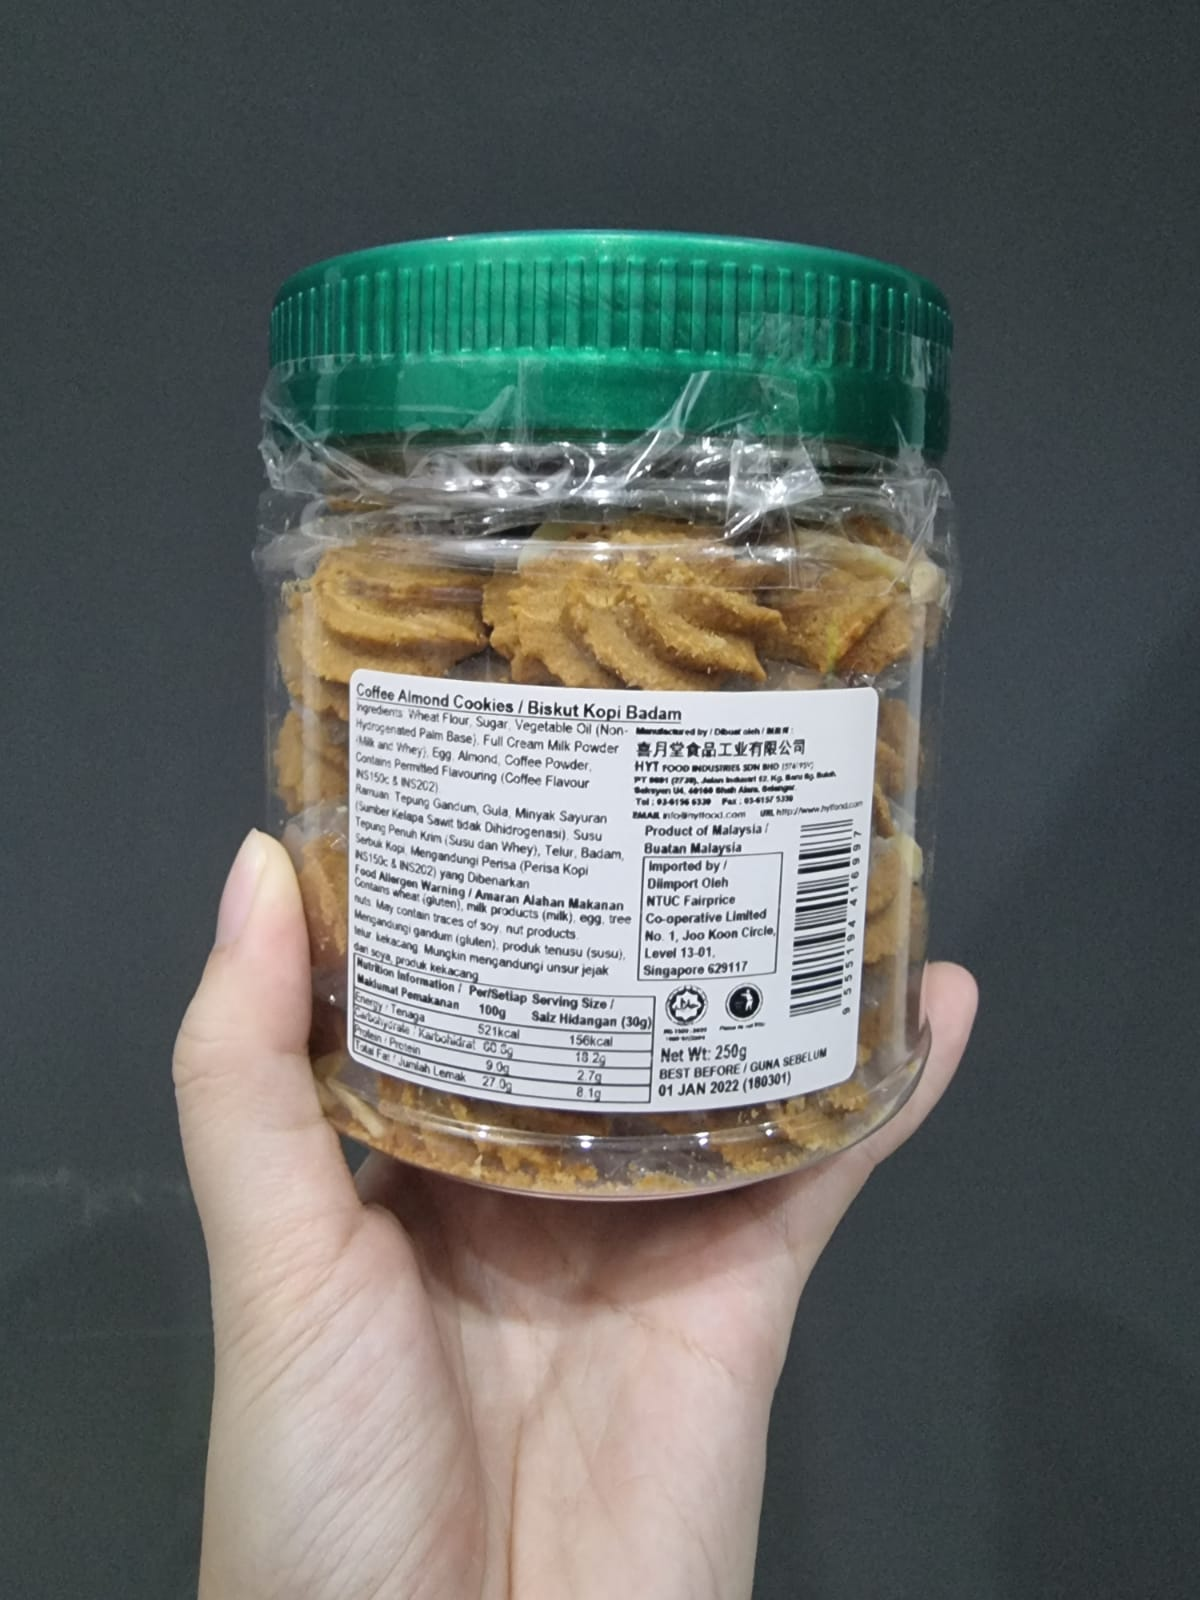Halal: (666, 990, 698, 1023)
